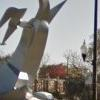Statue: (0, 1, 72, 81)
